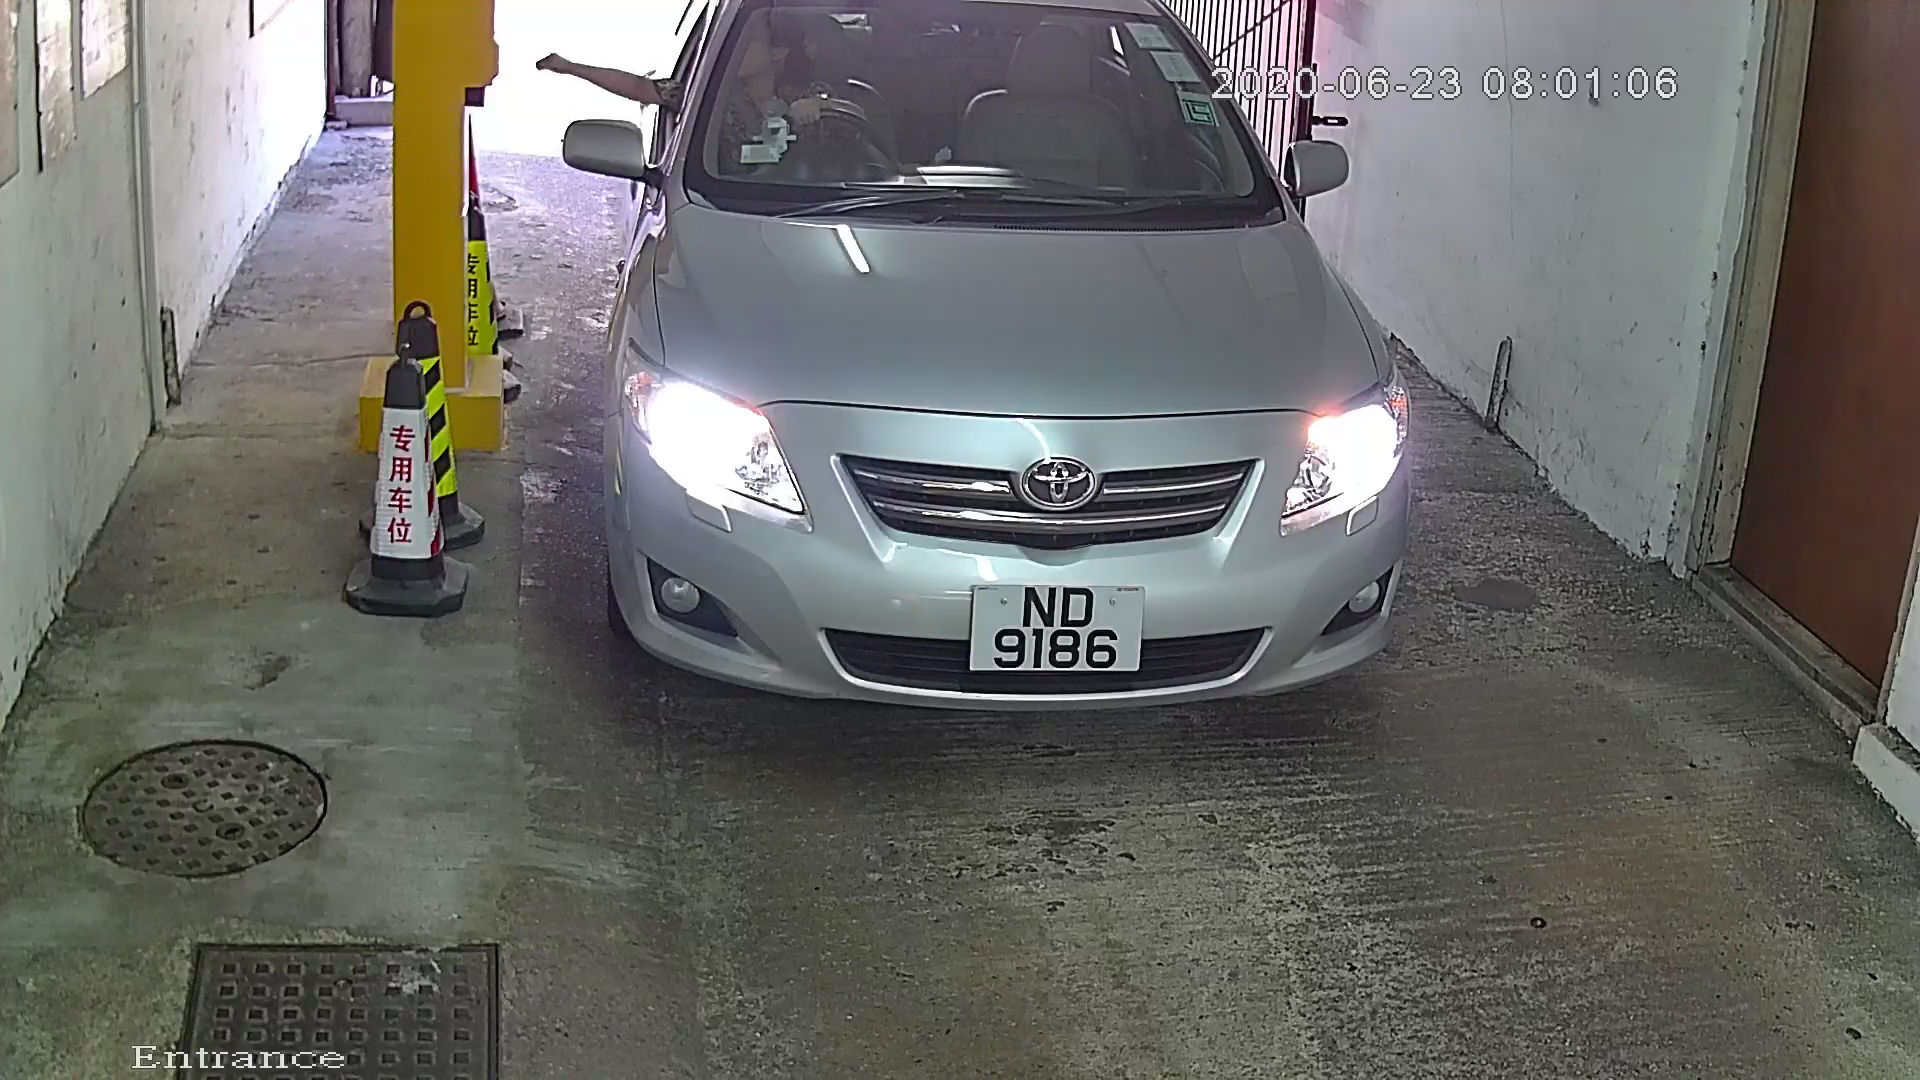privatecar: (506, 1, 1431, 771)
